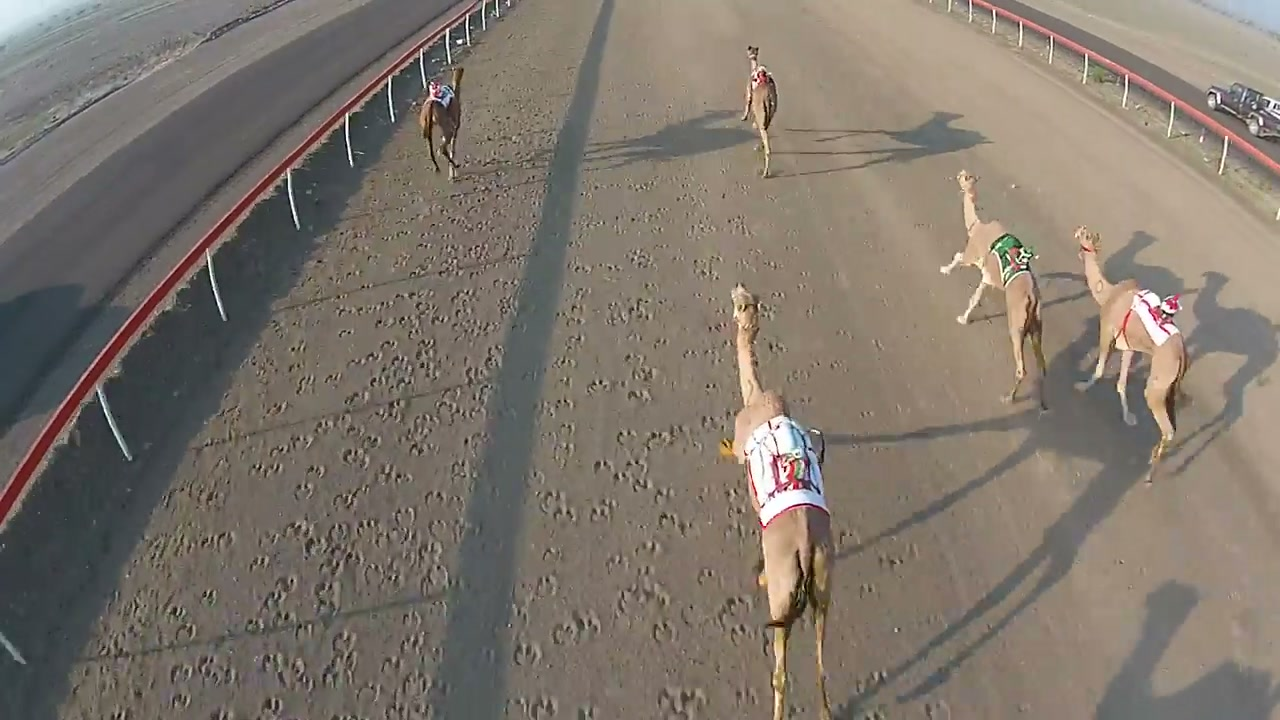animal_footprint: (122, 146, 526, 719), (726, 169, 953, 708), (515, 191, 739, 715)
